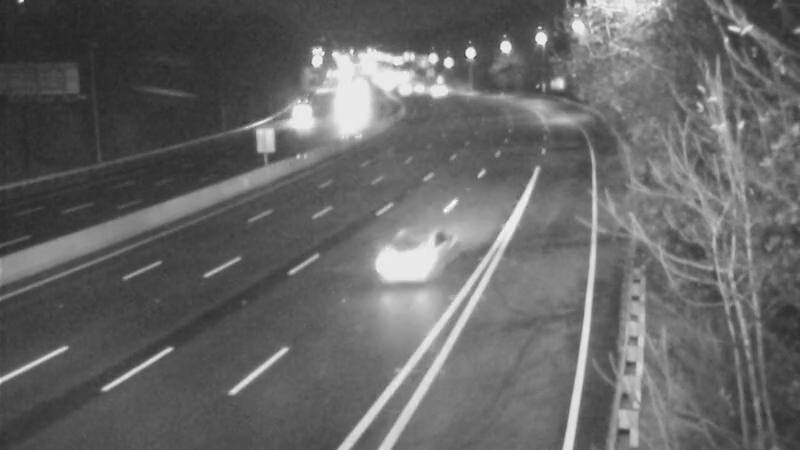vehicle: (369, 222, 449, 302), (416, 59, 466, 109), (273, 85, 323, 135)
